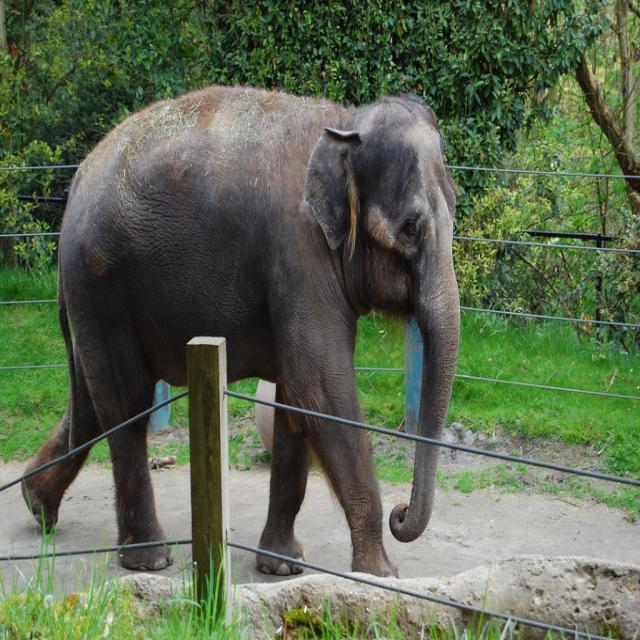elephant: (43, 78, 470, 596)
